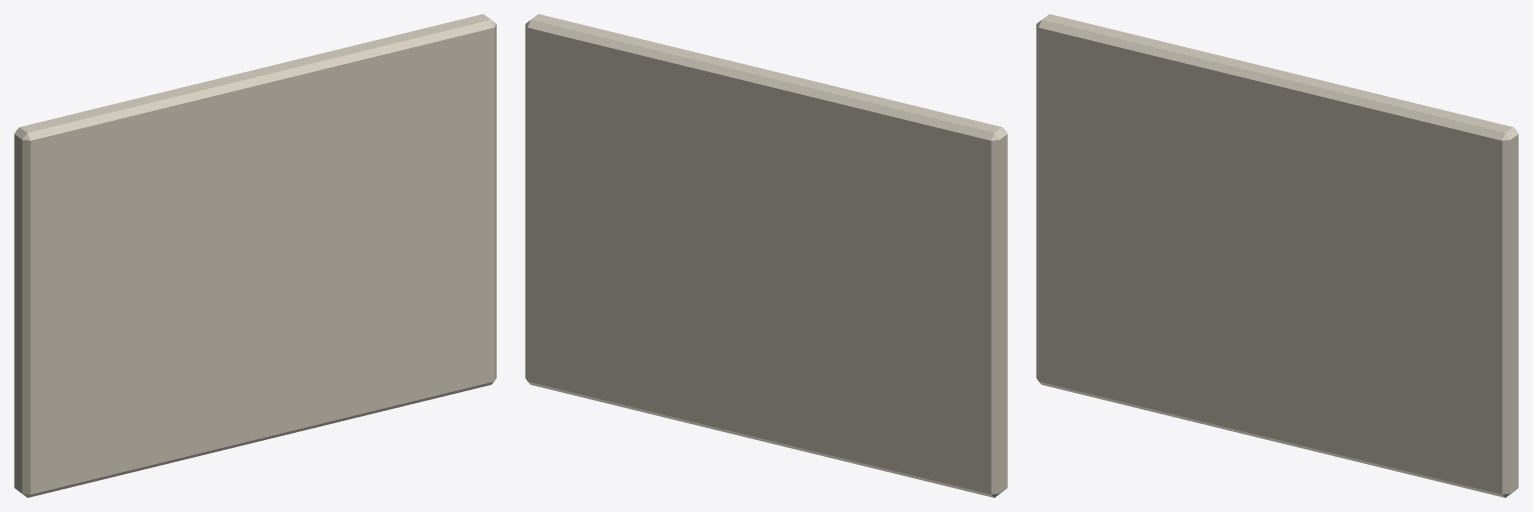
File: frames.glb
The picture shows the model from 3 angles, left to right: view 1: azimuth 30°, elevation 25°; view 2: azimuth 150°, elevation 25°; view 3: azimuth 330°, elevation 25°; orthographic projection.
Visible parts, largest first — view 1: frames; view 2: frames; view 3: frames.
Part boxes in pixels (x1,y1,x2,y2): frames: [14, 14, 496, 497]; frames: [525, 14, 1007, 497]; frames: [1036, 14, 1518, 497].
Bounding box in the file's own units: 0.306 × 0.225 × 0.0158.
